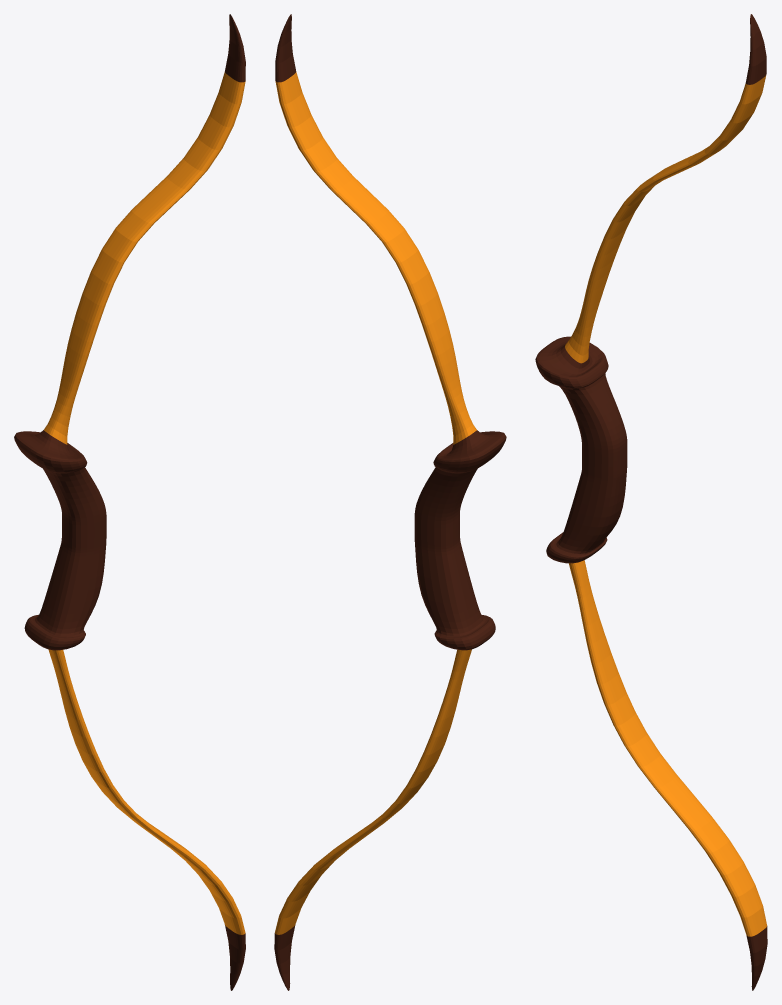
Rendered from Bow09.fbx.
3 renders of one model, left to right at view 1: azimuth 30°, elevation 25°; view 2: azimuth 150°, elevation 25°; view 3: azimuth 330°, elevation 25°, orthographic.
Visible parts, largest first — view 1: BowLow.001; view 2: BowLow.001; view 3: BowLow.001.
Boxes of the visible parts, x1,y1,x2,y2 form: BowLow.001: (14,14,245,990); BowLow.001: (274,14,506,990); BowLow.001: (535,14,767,990).
Size of the model in its own units: 37.92 by 164 by 12.34.
